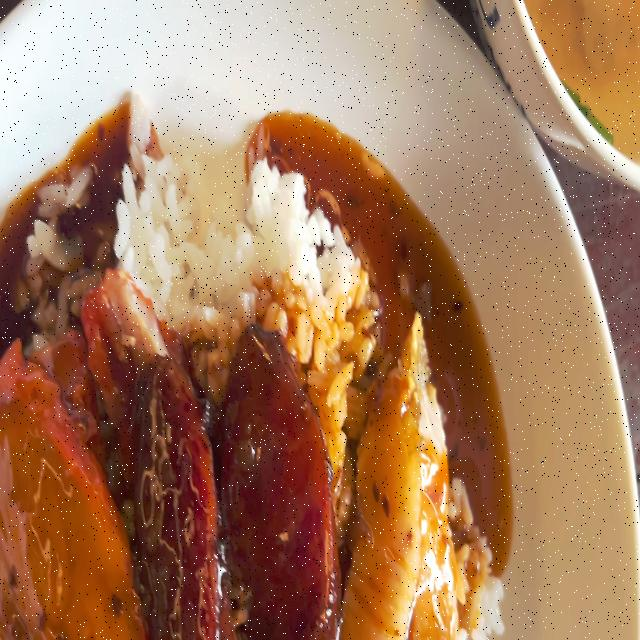chainese_sausage: (127, 338, 329, 640), (226, 337, 330, 640), (133, 351, 217, 635)
crispy_pork: (347, 326, 461, 640), (395, 321, 457, 640), (354, 375, 413, 640)
red_pork: (0, 316, 130, 639), (53, 274, 139, 462)
red_pork_and_crispy_pork: (0, 144, 504, 640)
rice: (0, 108, 379, 334)
